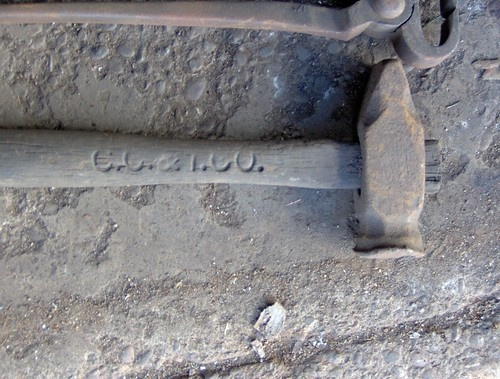hammer: (1, 58, 429, 258)
